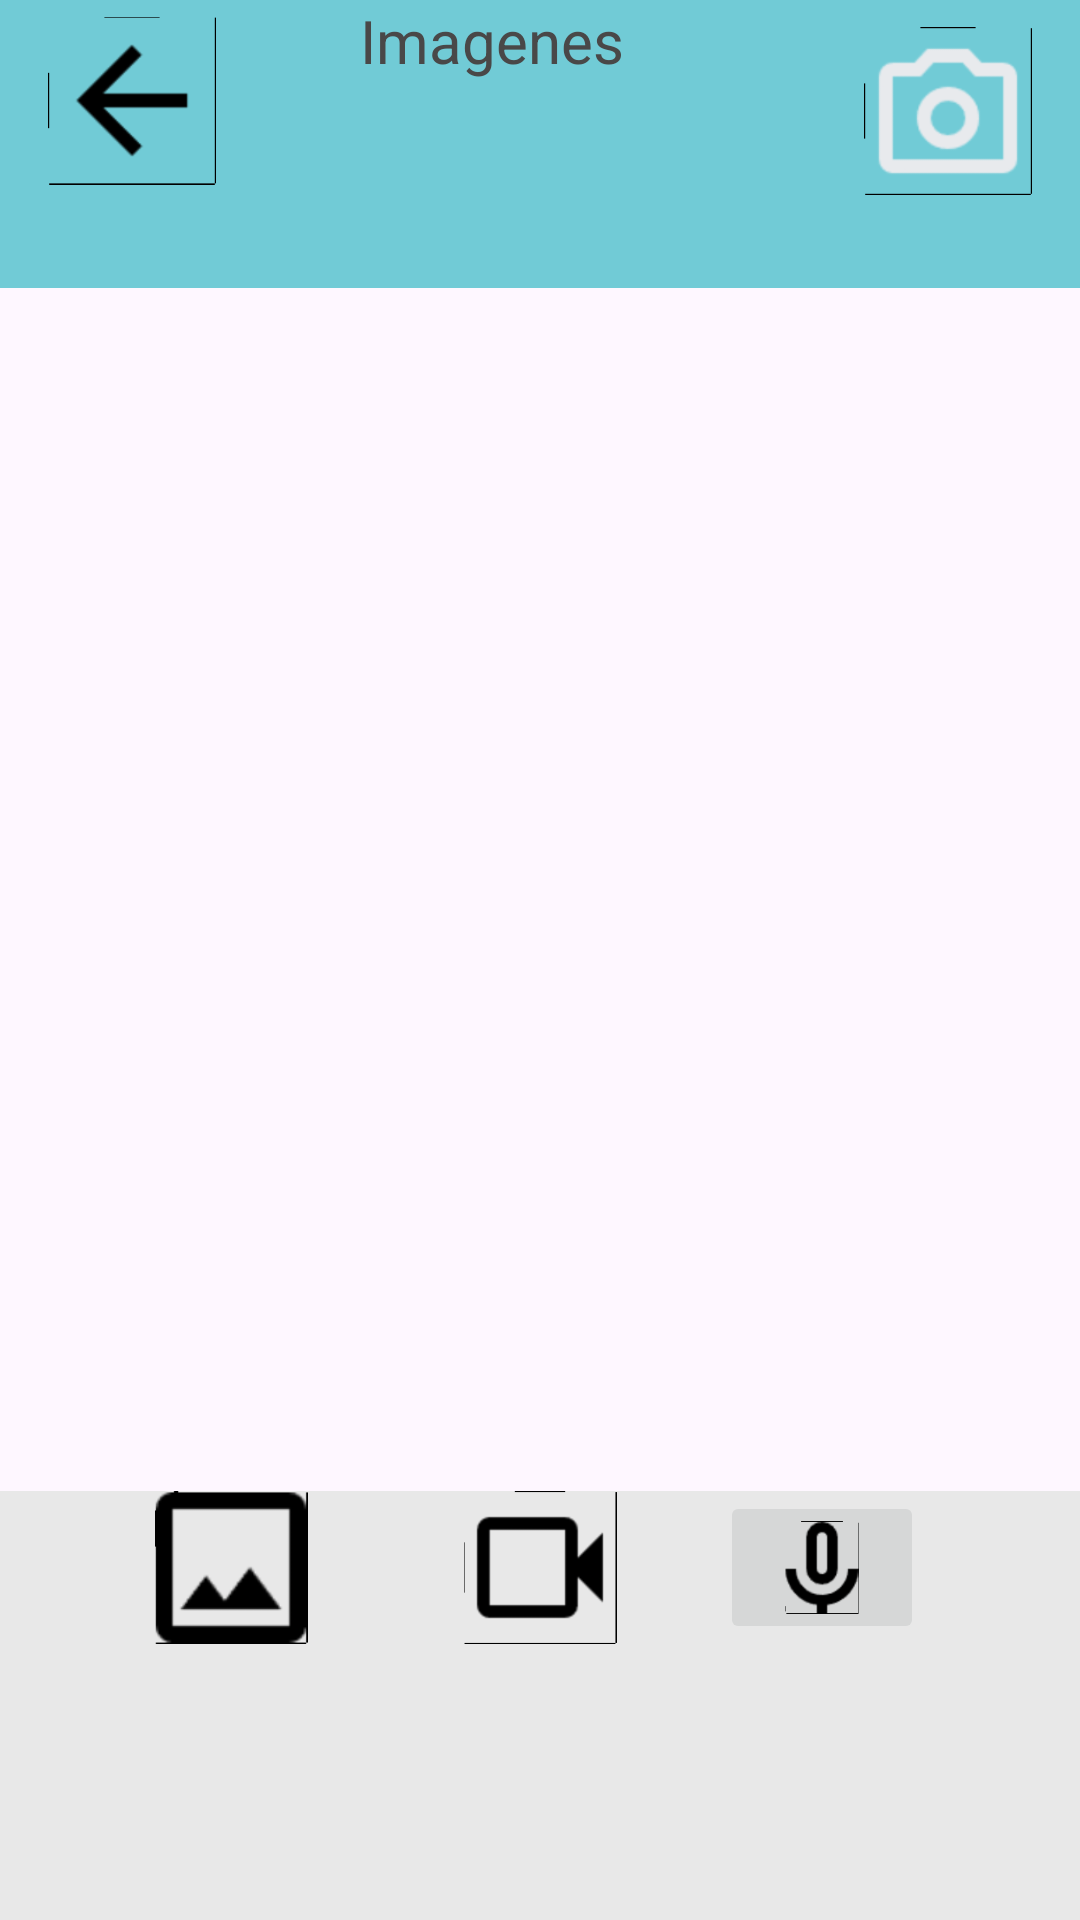

Where icons sit on this 1080x1920 app screen, as bbox(x1, y1, x2, y2):
arrow back: bbox(48, 17, 216, 185)
imageselecter: bbox(155, 1491, 308, 1644)
microphone: bbox(732, 1509, 912, 1626)
photcamera: bbox(864, 27, 1032, 195)
videocam: bbox(464, 1491, 617, 1644)
